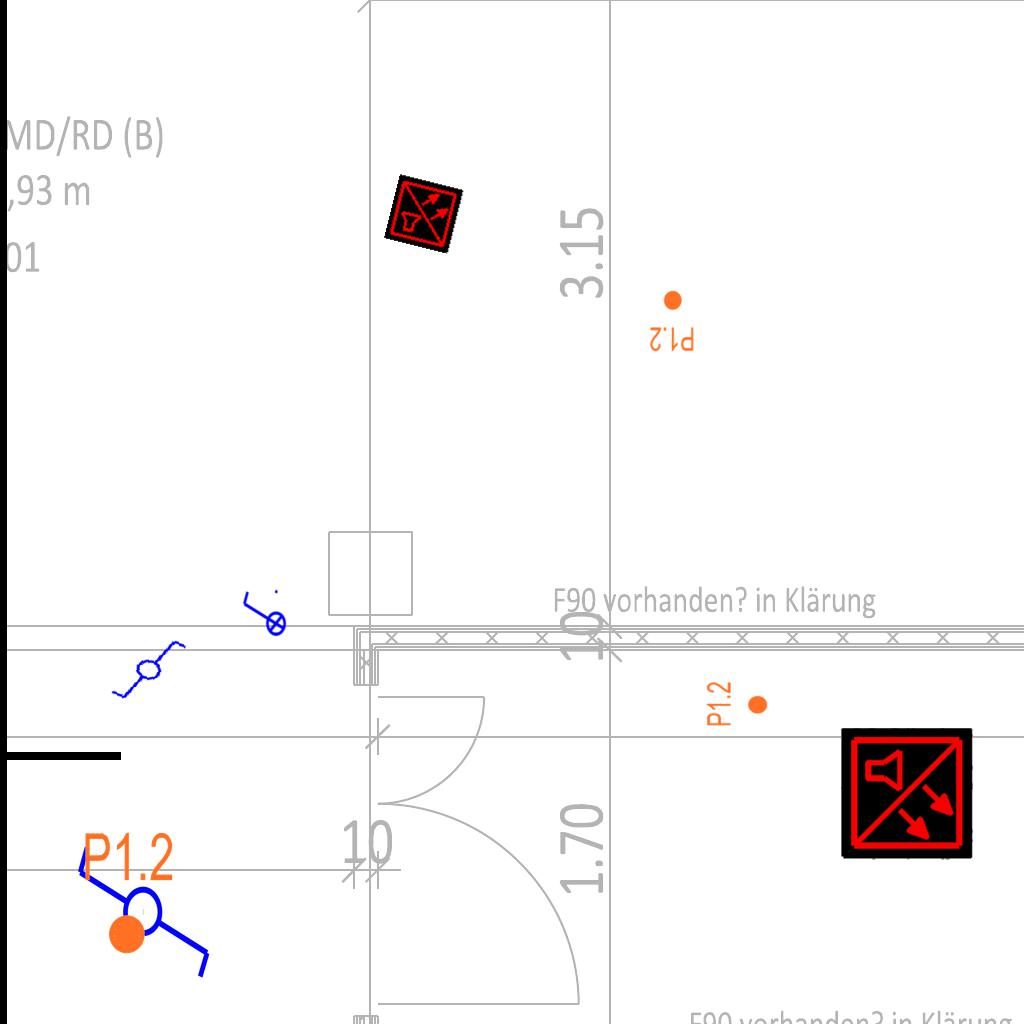Ausschalter_beleuchtet: (239, 587, 287, 643)
Downlight_LED_Einbauleuchten_Flur: (82, 829, 175, 957), (649, 289, 695, 353), (705, 681, 769, 727)
OKW_Multisensormelder_(Kombination_optischer_Rauch-Kahlenmonoxid_Waerme-Melder): (841, 728, 973, 860), (383, 173, 465, 255)
Wechselschalter: (73, 825, 217, 982), (100, 625, 190, 711)
